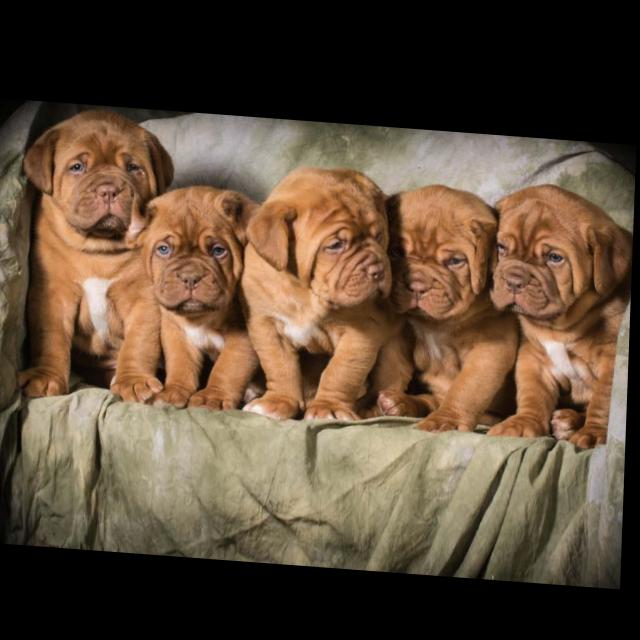dogue_de_bordeaux: (17, 104, 179, 407), (238, 156, 412, 423), (486, 172, 636, 444), (370, 174, 526, 431), (126, 177, 270, 410)
